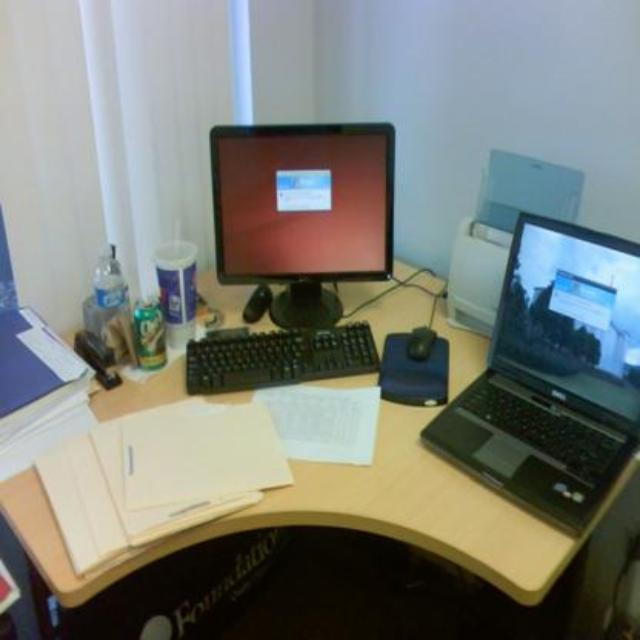Computer-Keyboard: (182, 334, 384, 401)
Flat-Panel-Monitor: (205, 100, 418, 334)
Laptop: (442, 211, 640, 537)
